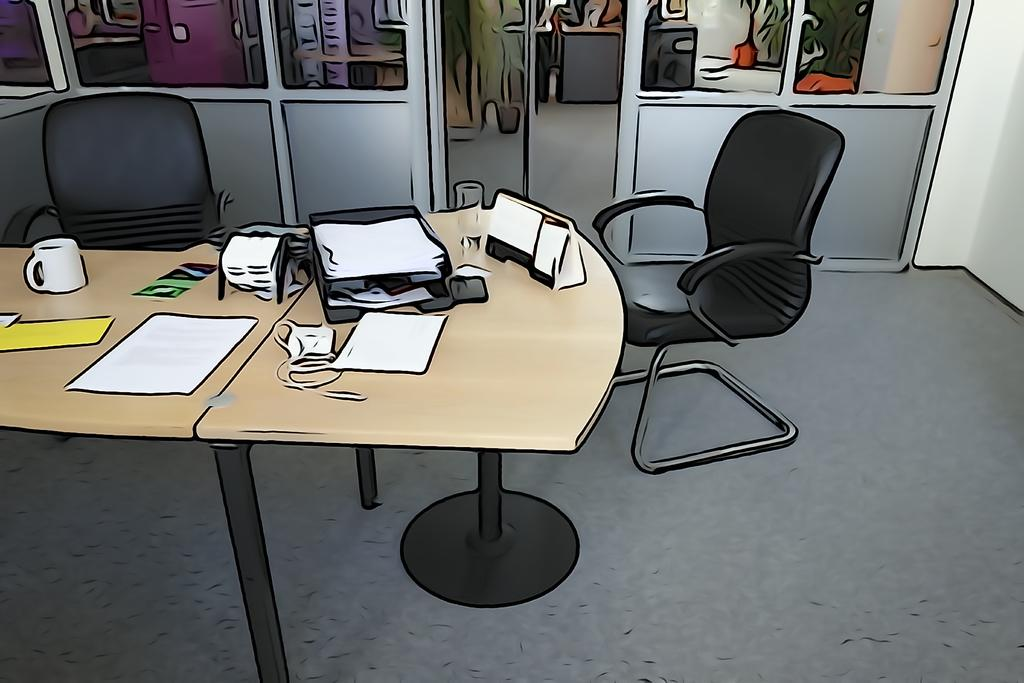Book: (63, 310, 259, 396)
Chair: (590, 106, 846, 475)
Luggage-and-bags: (215, 220, 312, 305)
